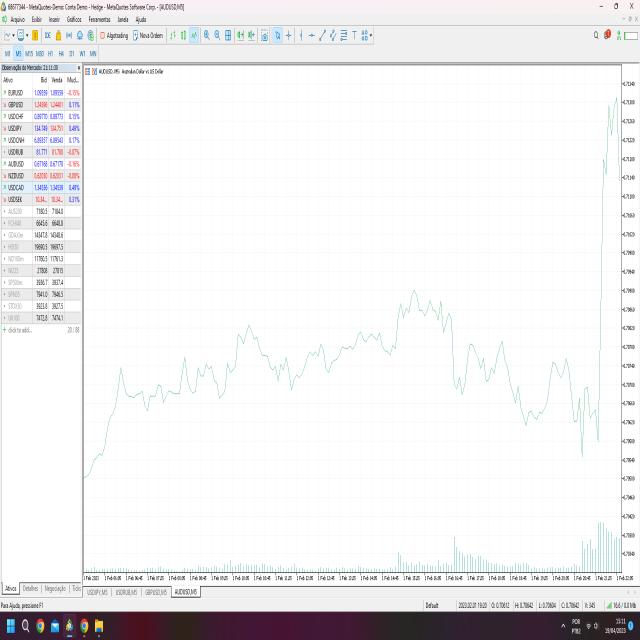topo_duplo: (462, 304, 518, 446)
